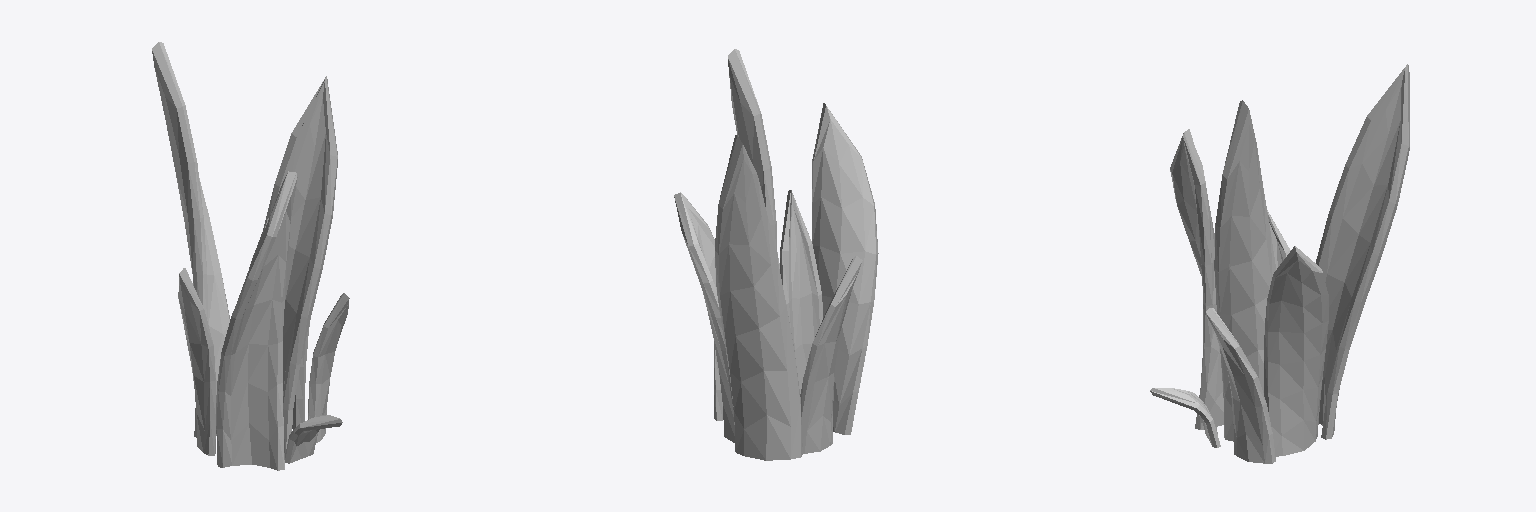
The model's file is sansevieria_plant_large.obj.
3 views of the same model, side by side, from view 1: azimuth 30°, elevation 25°; view 2: azimuth 150°, elevation 25°; view 3: azimuth 270°, elevation 25° (orthographic).
Visible parts, largest first — view 1: sansevieria_plant_large; view 2: sansevieria_plant_large; view 3: sansevieria_plant_large.
Part boxes in pixels (bbox=[...]): sansevieria_plant_large: bbox=[152, 42, 349, 470]; sansevieria_plant_large: bbox=[674, 49, 878, 460]; sansevieria_plant_large: bbox=[1150, 64, 1409, 463].
Size of the model in its own units: 1.3 by 2.62 by 1.71.